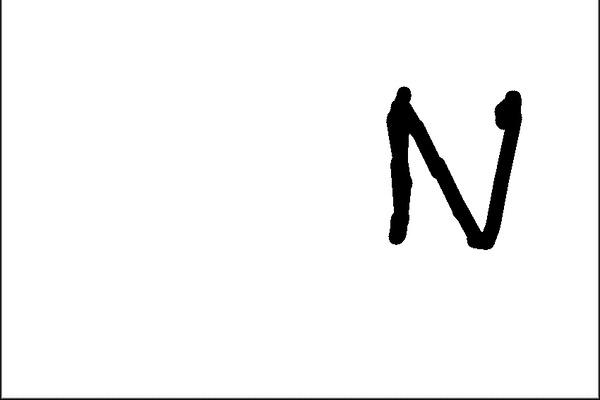N: (379, 78, 526, 257)
